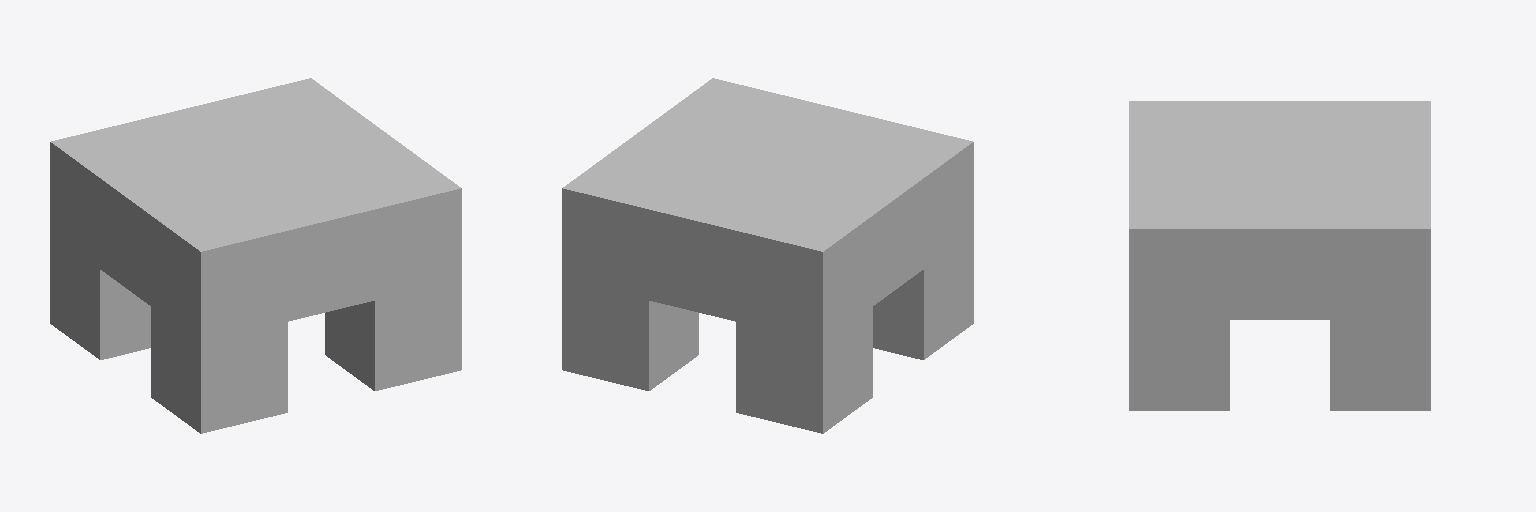
Rendered from button.obj.
3 renders of one model, left to right at view 1: azimuth 30°, elevation 25°; view 2: azimuth 150°, elevation 25°; view 3: azimuth 270°, elevation 25°, orthographic.
Visible parts, largest first — view 1: object 1; view 2: object 1; view 3: object 1.
Part boxes in pixels (x1,y1,x2,y2): object 1: (50, 78, 461, 433); object 1: (562, 78, 973, 433); object 1: (1129, 101, 1430, 410).
Bounding box in the file's own units: 0.3 × 0.2 × 0.3.